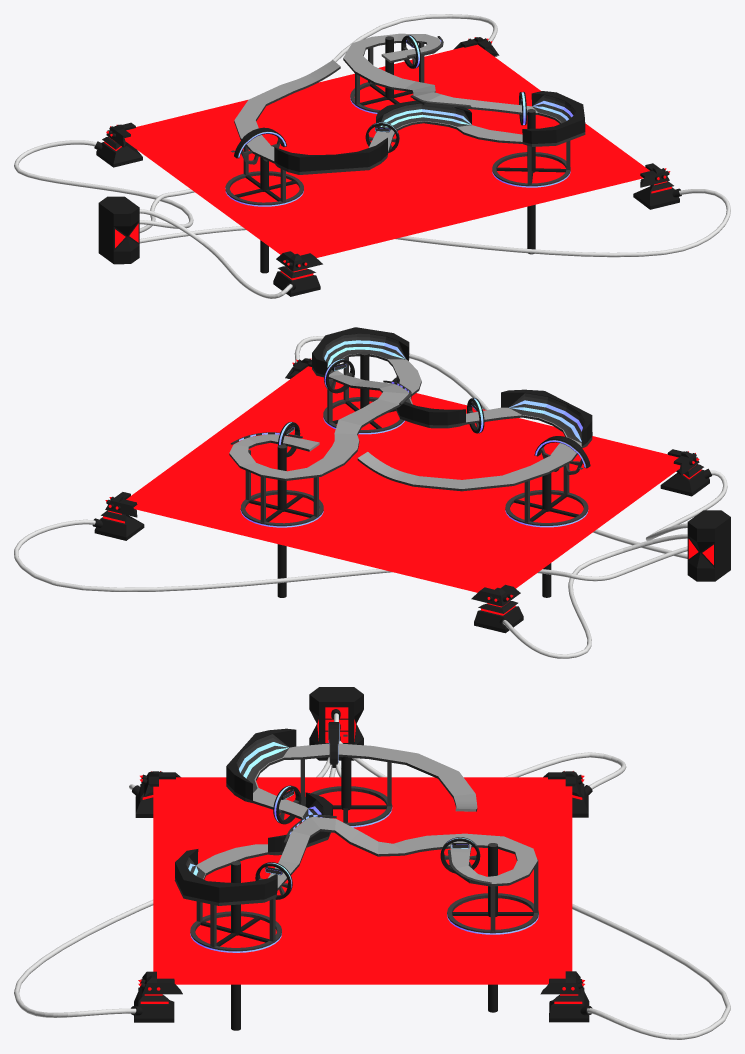
The model's file is CompleteTrack.fbx.
3 renders of one model, top to bottom at view 1: azimuth 30°, elevation 25°; view 2: azimuth 150°, elevation 25°; view 3: azimuth 270°, elevation 25°, orthographic. The views are drawn at different scales.
Visible parts, largest first — view 1: Plane, MainTrack, BarrierGens, Battery, Cable4, Pillar2, Pillar3, Cable2, Pillar1, Cable3, Cable1, FinishLineMesh; view 2: Plane, MainTrack, BarrierGens, Cable3, Pillar1, Battery, Pillar3, Cable2, Pillar2, Cable4, Cable1, FinishLineMesh; view 3: Plane, MainTrack, BarrierGens, Pillar2, Battery, Pillar1, Cable3, Pillar3, Cable4, Cable2, CheckPoinRing.
Part boxes in pixels (x1,y1,x2,y2): Plane: (124, 44, 649, 257); MainTrack: (234, 33, 585, 174); BarrierGens: (94, 37, 681, 296); Battery: (98, 196, 139, 264); Cable4: (139, 189, 730, 257); Pillar2: (492, 109, 570, 254); Pillar3: (225, 145, 303, 273); Cable2: (14, 140, 193, 228); Pillar1: (350, 36, 424, 113); Cable3: (139, 14, 497, 232); Cable1: (139, 209, 292, 298); FinishLineMesh: (234, 127, 286, 164); Plane: (126, 366, 680, 592); MainTrack: (229, 327, 592, 491); BarrierGens: (92, 358, 711, 633); Cable3: (14, 519, 687, 591); Pillar1: (240, 444, 323, 597); Battery: (687, 510, 730, 581); Pillar3: (505, 464, 588, 597); Cable2: (502, 534, 687, 658); Pillar2: (323, 351, 404, 434); Cable4: (294, 336, 687, 558); Cable1: (646, 470, 727, 540); FinishLineMesh: (534, 436, 590, 474); Plane: (153, 777, 572, 984); MainTrack: (174, 728, 537, 905); BarrierGens: (131, 771, 592, 1022); Pillar2: (190, 861, 281, 1030); Battery: (309, 687, 363, 760); Pillar1: (447, 843, 538, 1012); Cable3: (339, 741, 730, 1039); Pillar3: (300, 734, 392, 827); Cable4: (14, 765, 335, 1017); Cable2: (336, 752, 626, 789); CheckPoinRing: (440, 837, 480, 873).
Bounding box in the file's own units: 525 × 145 × 531.
